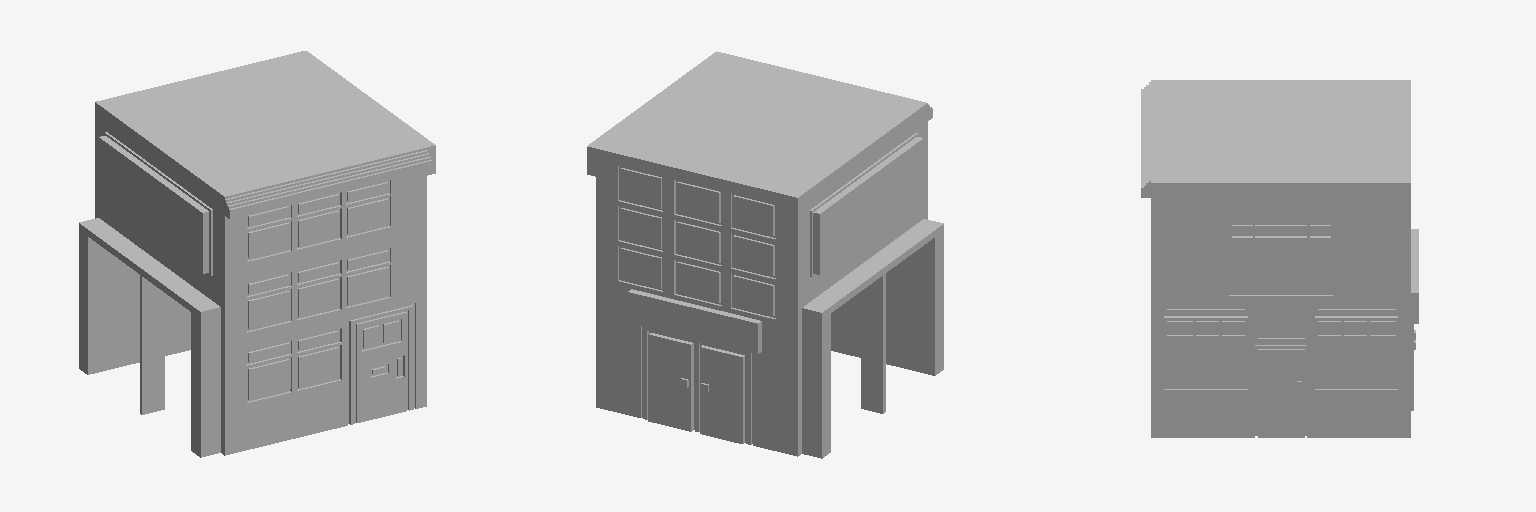
The model's file is buildings house, story, flats, double house.obj.
3 views of the same model, side by side, from view 1: azimuth 30°, elevation 25°; view 2: azimuth 150°, elevation 25°; view 3: azimuth 270°, elevation 25° (orthographic).
Visible parts, largest first — view 1: object 1; view 2: object 1; view 3: object 1.
Part boxes in pixels (x1,y1,x2,y2): object 1: (79, 51, 435, 457); object 1: (587, 51, 943, 458); object 1: (1141, 80, 1418, 437).
Size of the model in its own units: 10.3 by 11 by 10.7.